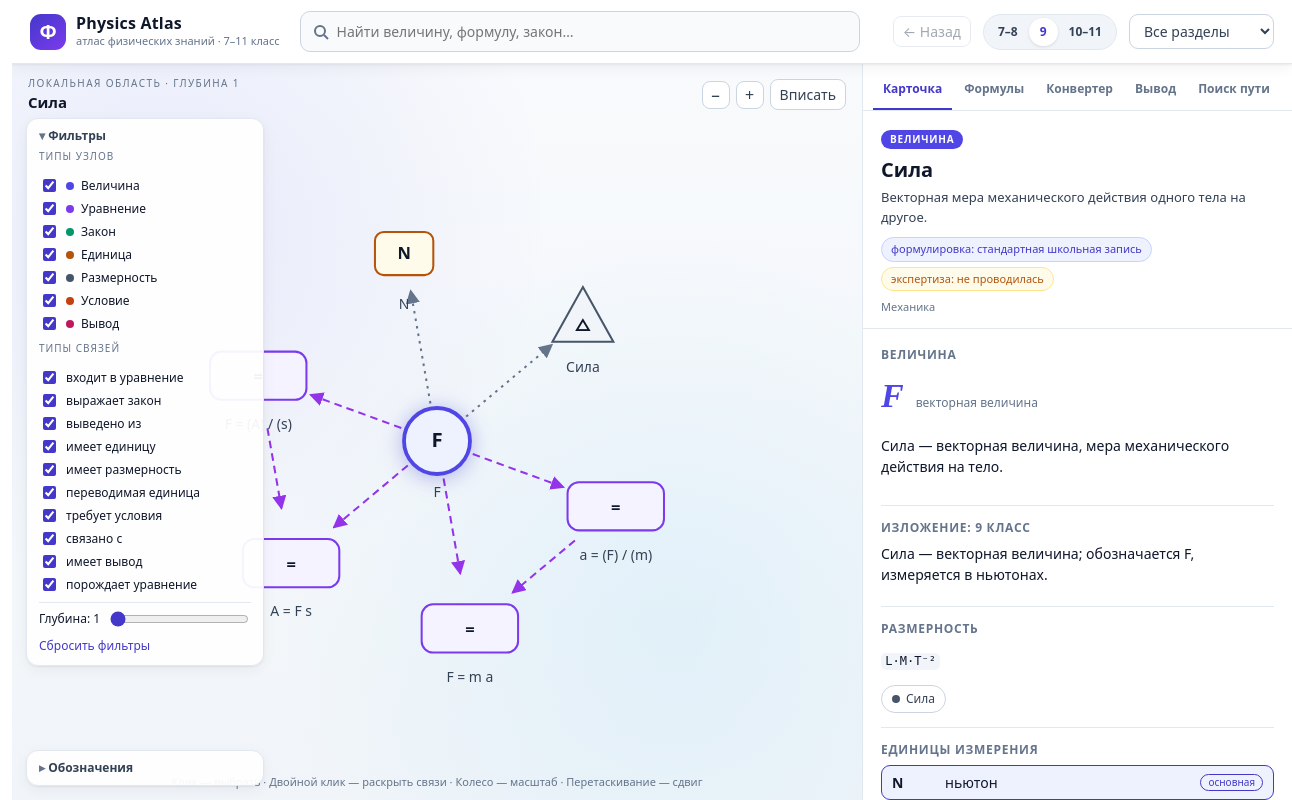
atlas application › finds the mechanics chain and marks it conditionally valid
Click the tab "Поиск пути".
click(1234, 91)  # box [1188, 72, 1280, 110]
(page scrolled)
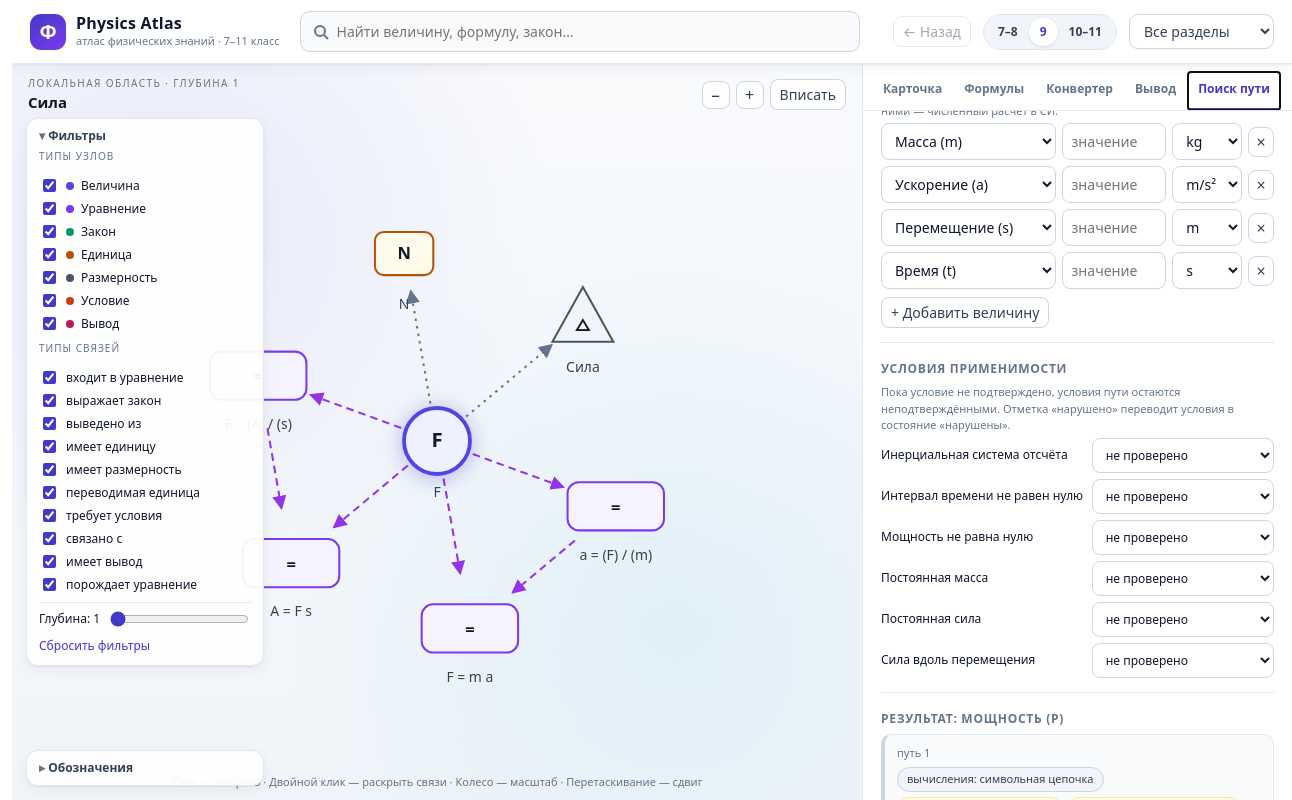
Expected: the text "вычисления: символьная цепочка" is shown, [897, 767, 1104, 792]
Expected: the heading "Условия применимости" is shown, [881, 360, 1067, 377]
Expected: the dropdown named "Статус условия" is shown, [1092, 438, 1274, 472]
